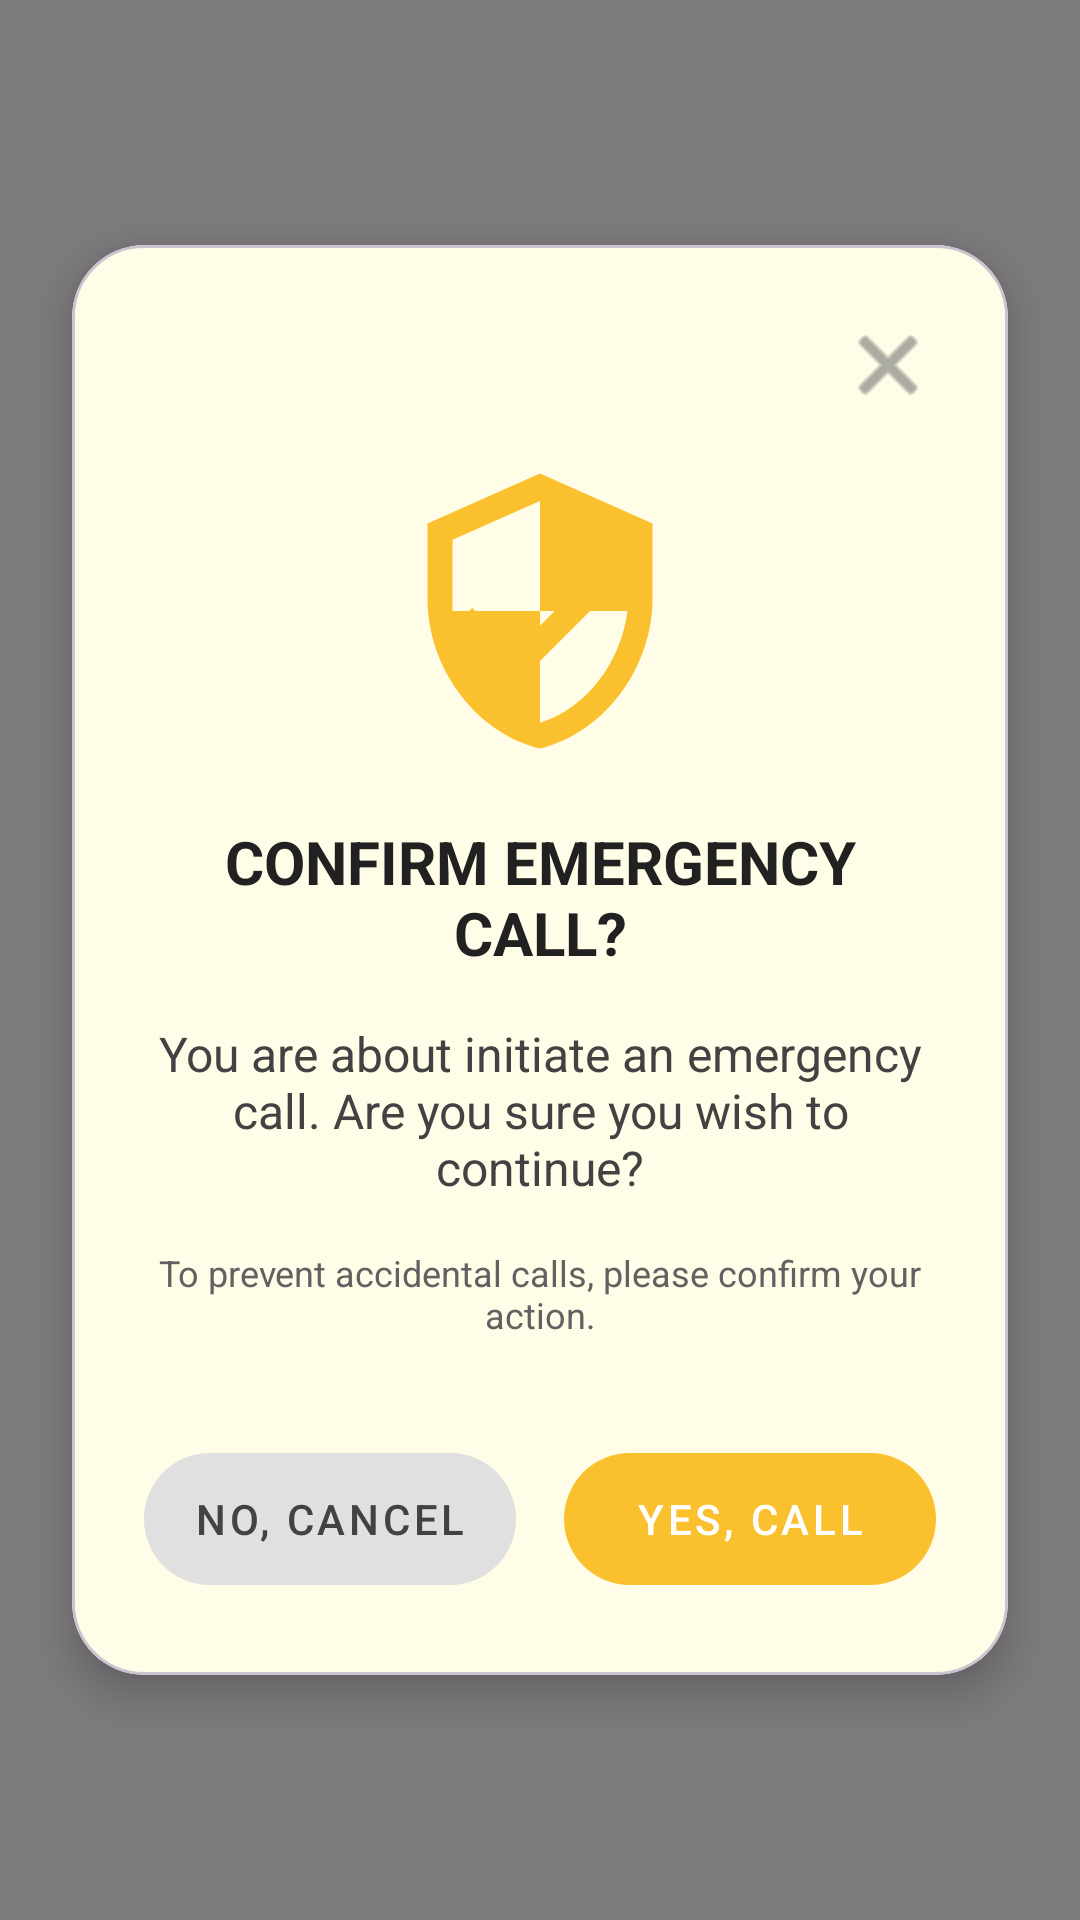

Point at icon controls on the screen. Image size 1080*1920, points as (x,y).
Close: (888,365)
